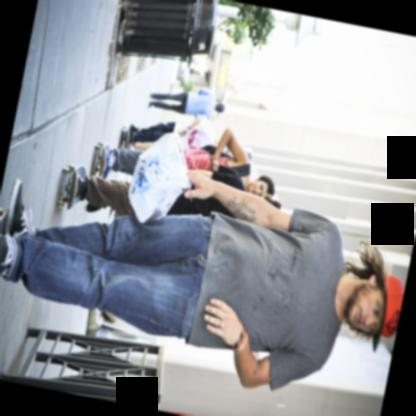backpack: (227, 163, 248, 176)
